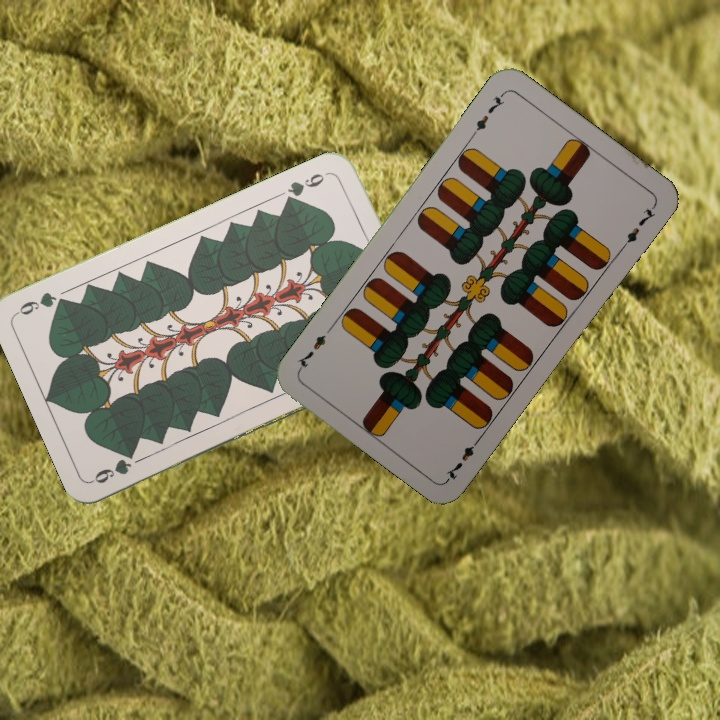E7: (442, 432, 485, 482), (467, 88, 508, 140)
G9: (88, 449, 137, 486), (281, 169, 327, 206)
